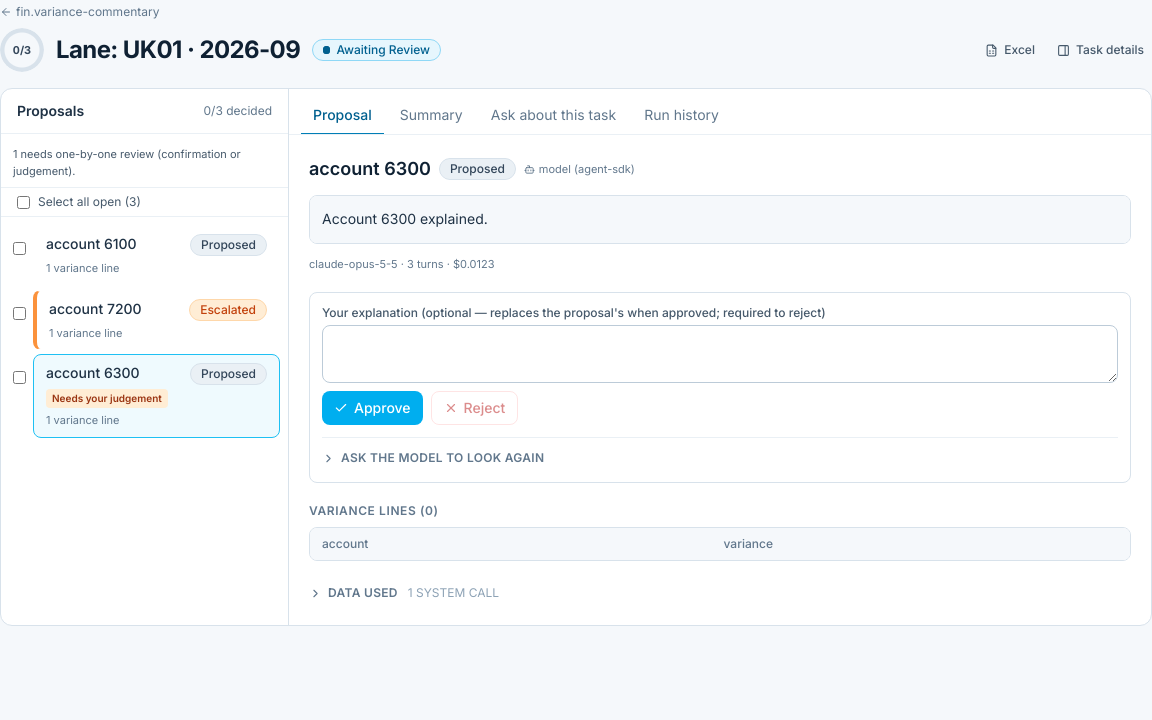
Test: TaskWorkspace › decides the proposals ticked in the list at once, leaving the one-by-one ones out of Approve
Later steps or results of the test are not shown.
Click the checkbox named "Select account 6100": (19, 248) x1=12 y1=242 x2=26 y2=255
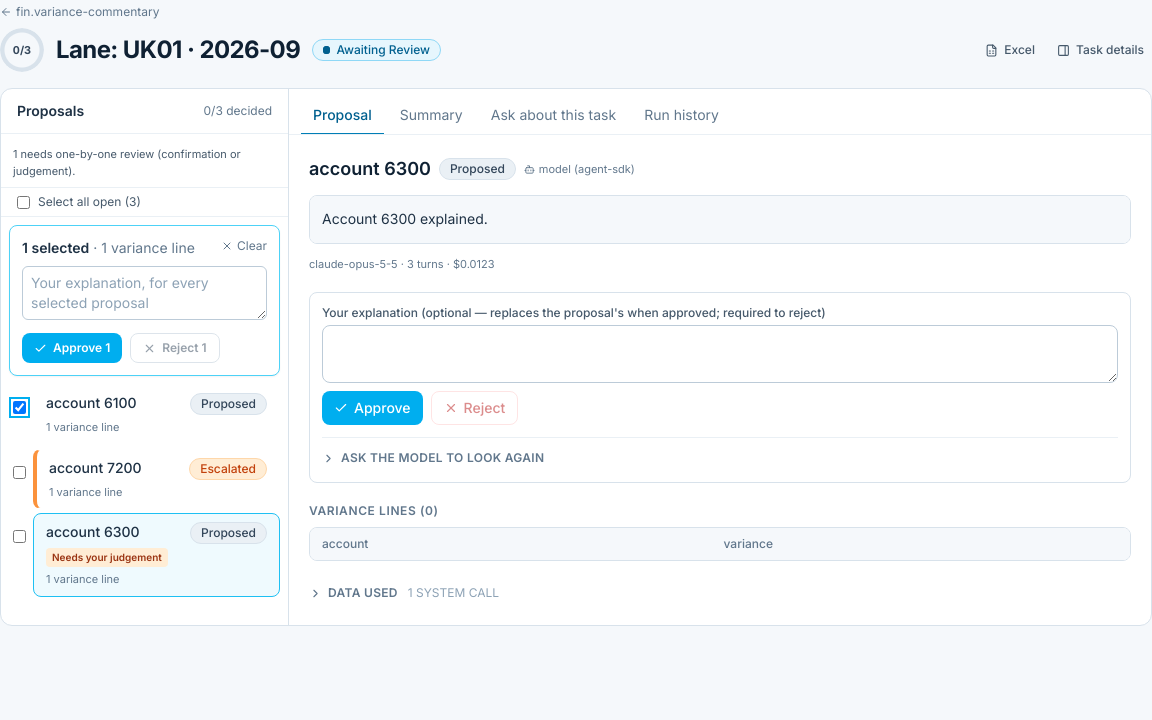
Click the checkbox named "Select account 7200": (19, 472) x1=12 y1=466 x2=26 y2=478
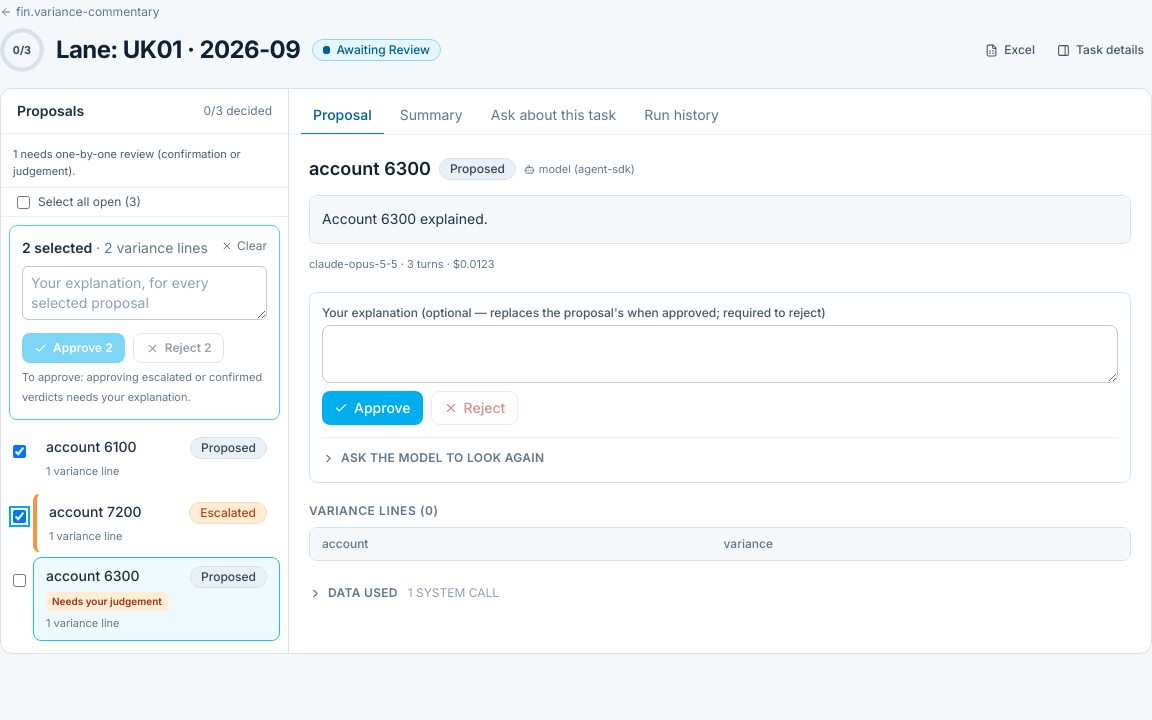
Click the checkbox named "Select account 6300": (19, 580) x1=12 y1=574 x2=26 y2=587
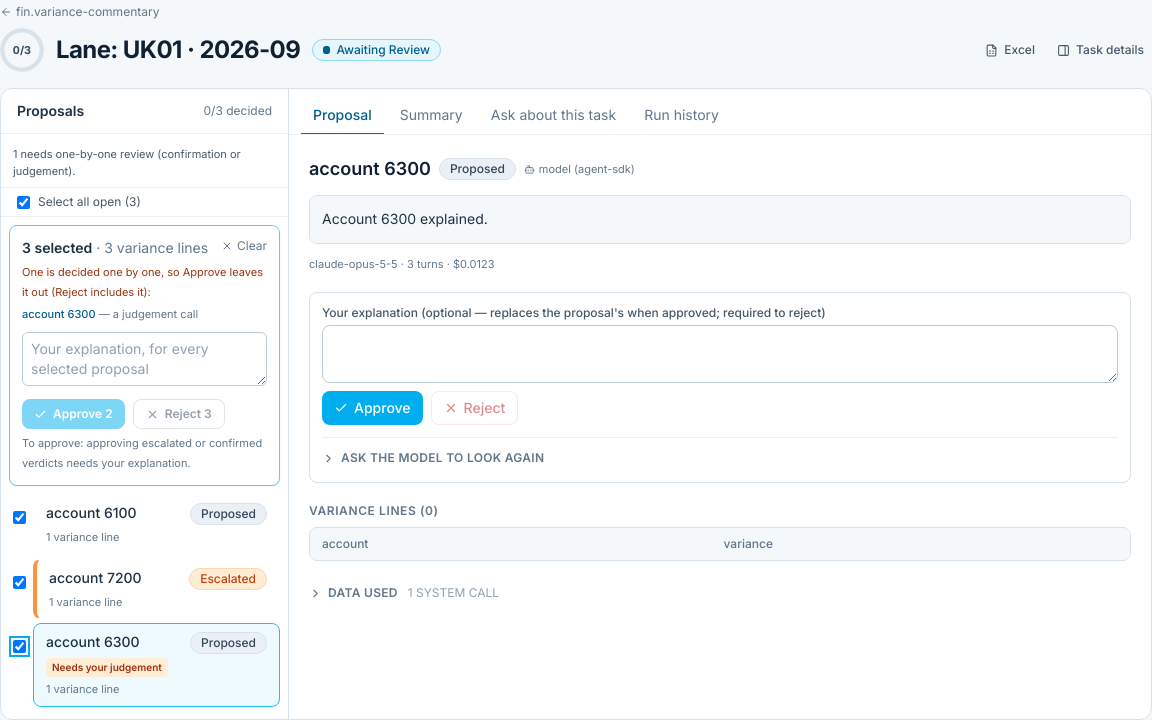
Now the button "Approve 2" is disabled, box x1=22 y1=399 x2=125 y2=429
Now the text "3 selected" is shown, box x1=22 y1=239 x2=92 y2=256
Now the text "decided one by one, so Approve leaves it out" is shown, box x1=22 y1=262 x2=267 y2=302
